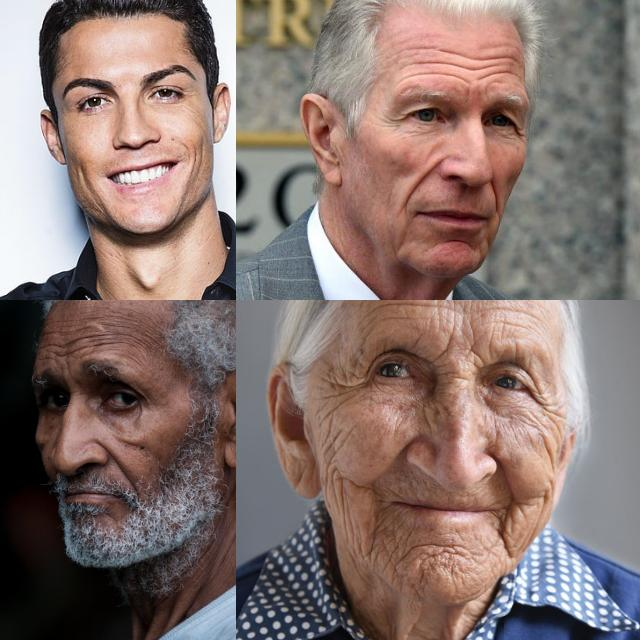bunny_line: (422, 397, 450, 431)
chin: (404, 536, 474, 574), (445, 232, 473, 250)
crows_feet: (320, 365, 374, 407), (530, 386, 560, 436), (509, 114, 528, 146), (384, 110, 404, 132)
forehead: (480, 300, 536, 334), (378, 300, 446, 324), (100, 324, 150, 356), (401, 46, 442, 78), (447, 44, 477, 86), (482, 51, 518, 83), (50, 326, 90, 354)
frown_line: (436, 338, 482, 380)
gummy_smile: (98, 442, 134, 484), (492, 456, 520, 510), (378, 436, 418, 472), (406, 162, 439, 202), (487, 179, 501, 213)
masseter: (324, 431, 354, 521), (535, 429, 565, 478), (536, 479, 554, 523), (70, 160, 92, 188), (190, 139, 207, 171)
sad_smile: (368, 487, 389, 541), (494, 510, 518, 554)
